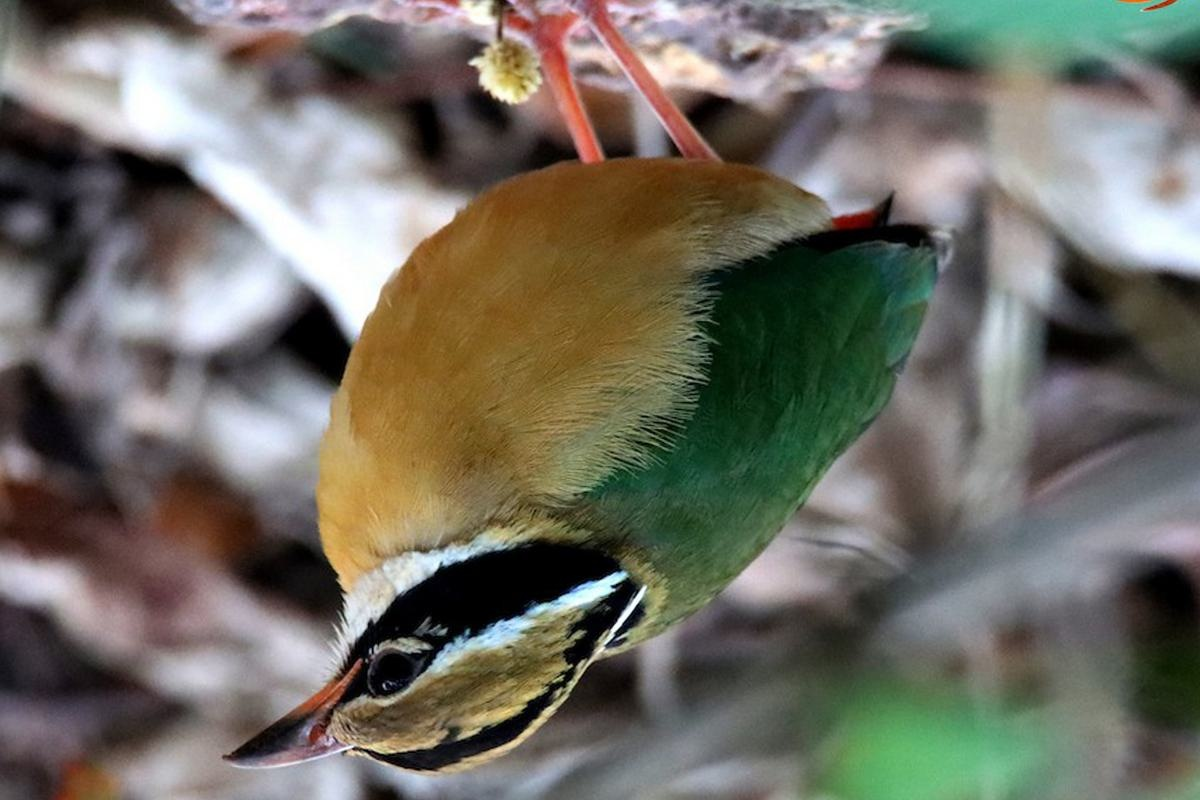pitta: (226, 61, 940, 781)
